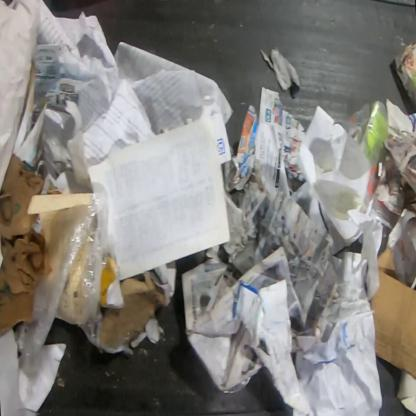cardboard: (0, 153, 49, 337), (370, 247, 415, 381), (100, 271, 167, 350), (398, 170, 415, 216)
rigid_plastic: (341, 101, 393, 207)
soft_plastic: (16, 192, 133, 380)
